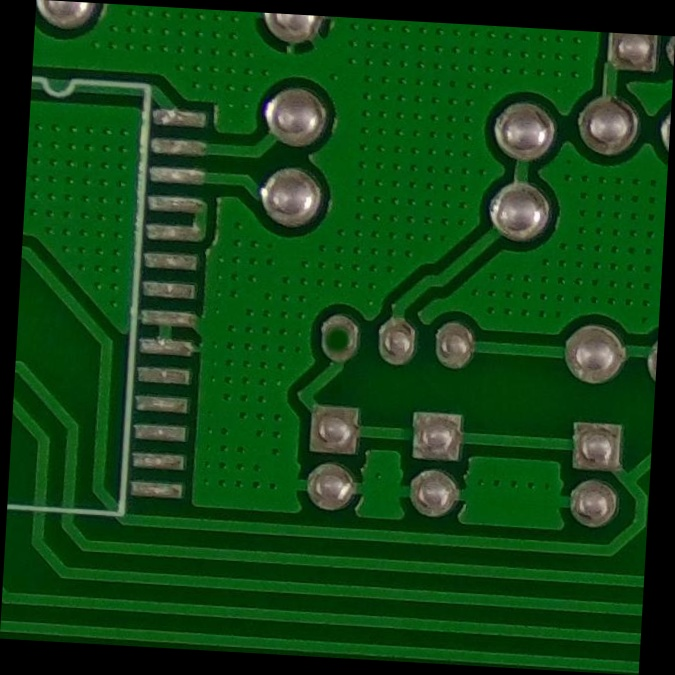missing_hole: (309, 304, 367, 372)
